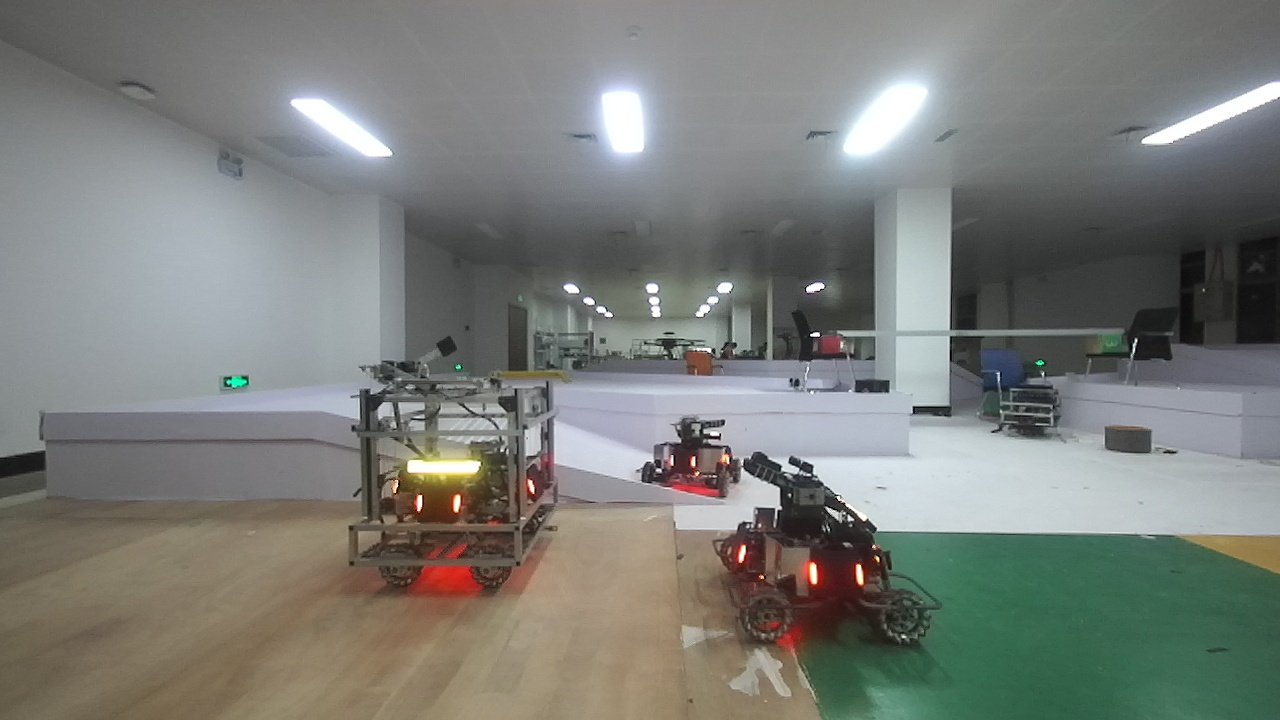car: (342, 362, 582, 597), (705, 454, 946, 649), (627, 406, 747, 499)
